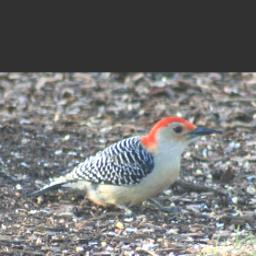Woodpecker: (34, 117, 220, 224)
